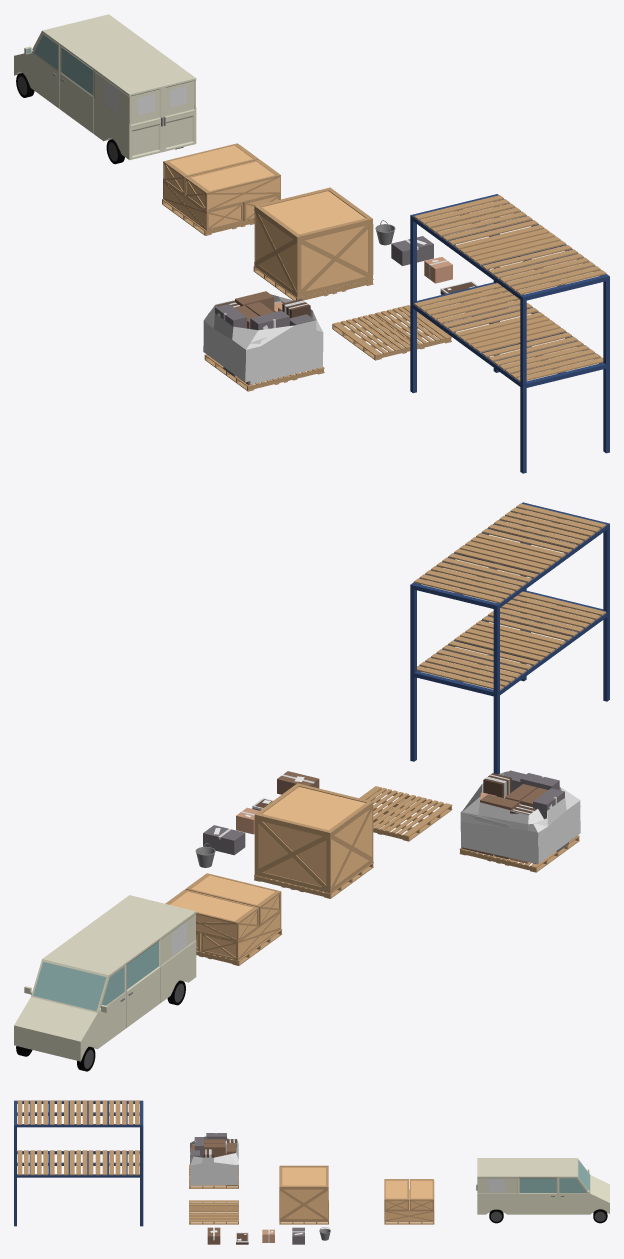
The model's file is WarehouseAssets.fbx.
The picture shows the model from 3 angles, top to bottom: view 1: azimuth 30°, elevation 25°; view 2: azimuth 150°, elevation 25°; view 3: azimuth 270°, elevation 25°; orthographic projection. The views are drawn at different scales.
Parts seen in each view (by area): view 1: WarehouseShelves, Van, WoodCrate, WoodPaletteFull1, WoodCrateHalves, WoodPalette, VanBackDoorLeft, VanBackDoorRight, CarbordBox4, CarbordBox3; view 2: WarehouseShelves, Van, WoodCrate, WoodPaletteFull1, WoodCrateHalves, WoodPalette, CarbordBox4; view 3: WarehouseShelves, Van, WoodCrate, WoodPaletteFull1, WoodCrateHalves, WoodPalette, CarbordBox1, CarbordBox4.
Boxes of the visible parts, x1,y1,x2,y2 form: WarehouseShelves: [410, 194, 609, 473]; Van: [14, 14, 193, 164]; WoodCrate: [253, 187, 373, 300]; WoodPaletteFull1: [203, 291, 324, 391]; WoodCrateHalves: [162, 143, 280, 235]; WoodPalette: [332, 305, 451, 360]; VanBackDoorLeft: [128, 85, 162, 160]; VanBackDoorRight: [161, 77, 196, 151]; CarbordBox4: [391, 236, 433, 265]; CarbordBox3: [424, 257, 452, 283]; WarehouseShelves: [410, 502, 609, 774]; Van: [14, 896, 194, 1071]; WoodCrate: [254, 783, 373, 898]; WoodPaletteFull1: [459, 770, 580, 872]; WoodCrateHalves: [165, 873, 282, 965]; WoodPalette: [359, 786, 452, 841]; CarbordBox4: [203, 825, 245, 855]; WarehouseShelves: [14, 1100, 143, 1226]; Van: [479, 1158, 609, 1223]; WoodCrate: [279, 1165, 328, 1224]; WoodPaletteFull1: [189, 1133, 238, 1188]; WoodCrateHalves: [384, 1179, 434, 1224]; WoodPalette: [189, 1200, 238, 1224]; CarbordBox1: [207, 1227, 220, 1244]; CarbordBox4: [292, 1227, 304, 1244].
Size of the model in its own units: 2188 by 1337 by 7088.
